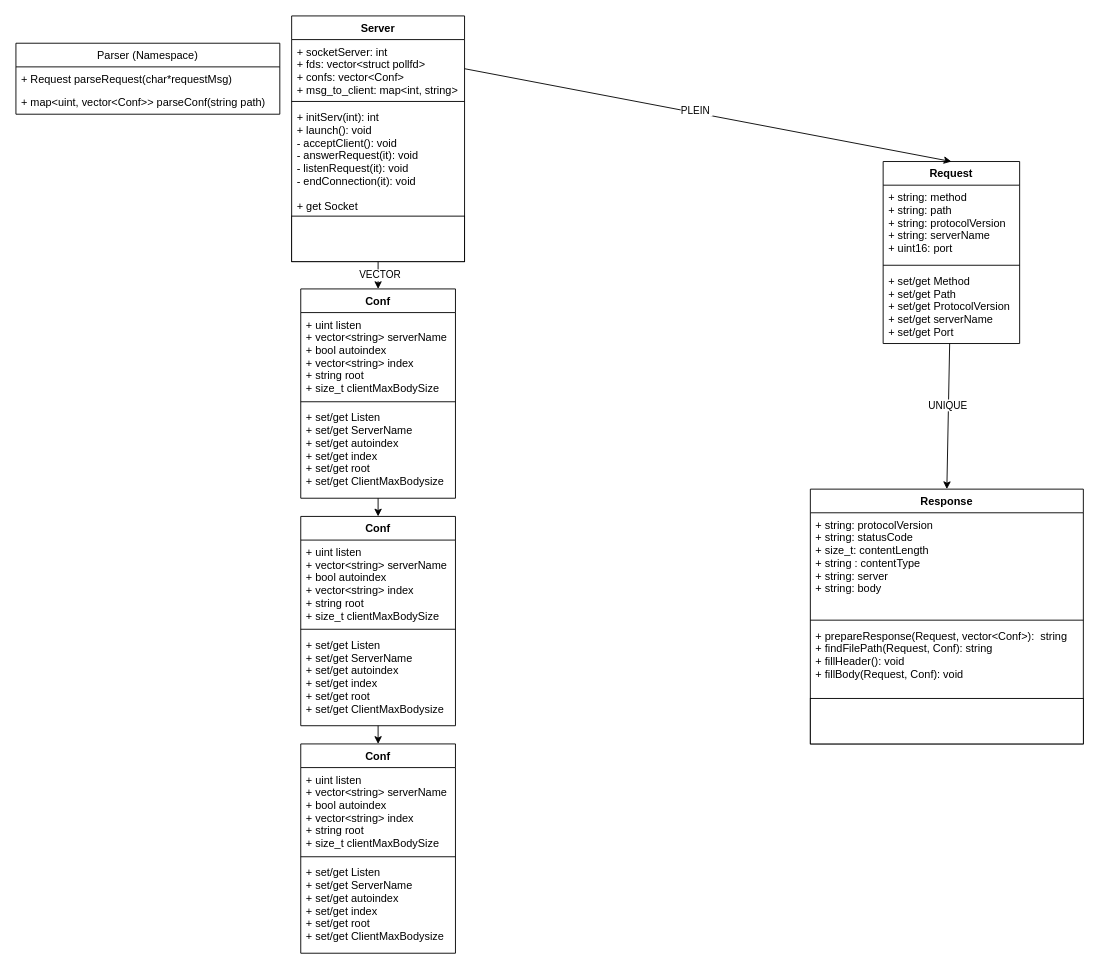
This 1099x972 diagram has some shape labels left out. Here are the shapes that lost their labels. From the top down, the centre of each, then its label:
At pixel 378 238: "ERROR CONF - SERVER".
At pixel 946 721: "ERROR REQUEST".
